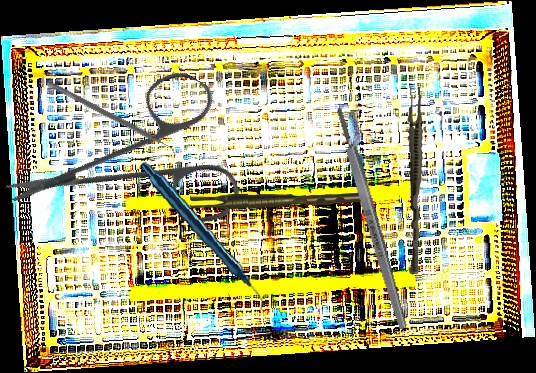Handpiece: (139, 152, 266, 322)
Iris Scissors: (1, 23, 279, 299)
Scalpel Handle: (332, 105, 410, 332)
Spatula Surgical: (43, 80, 181, 158)
Tissue Forceps: (405, 86, 426, 275), (189, 190, 365, 212)
